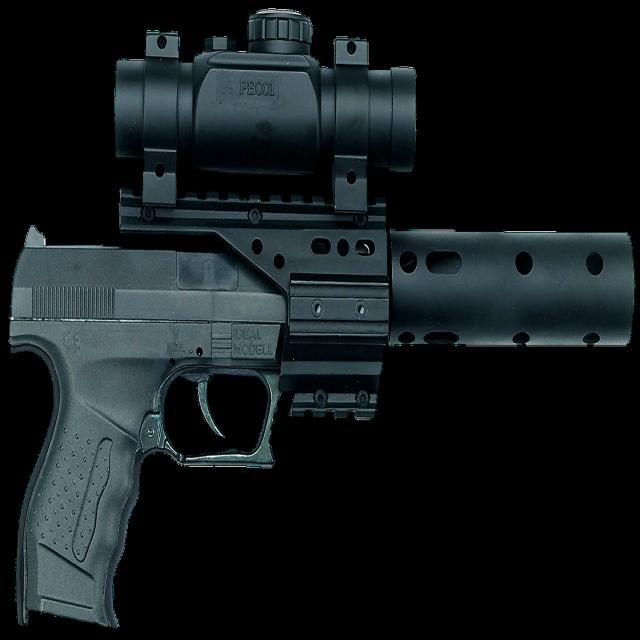Gun: (10, 9, 635, 626)
